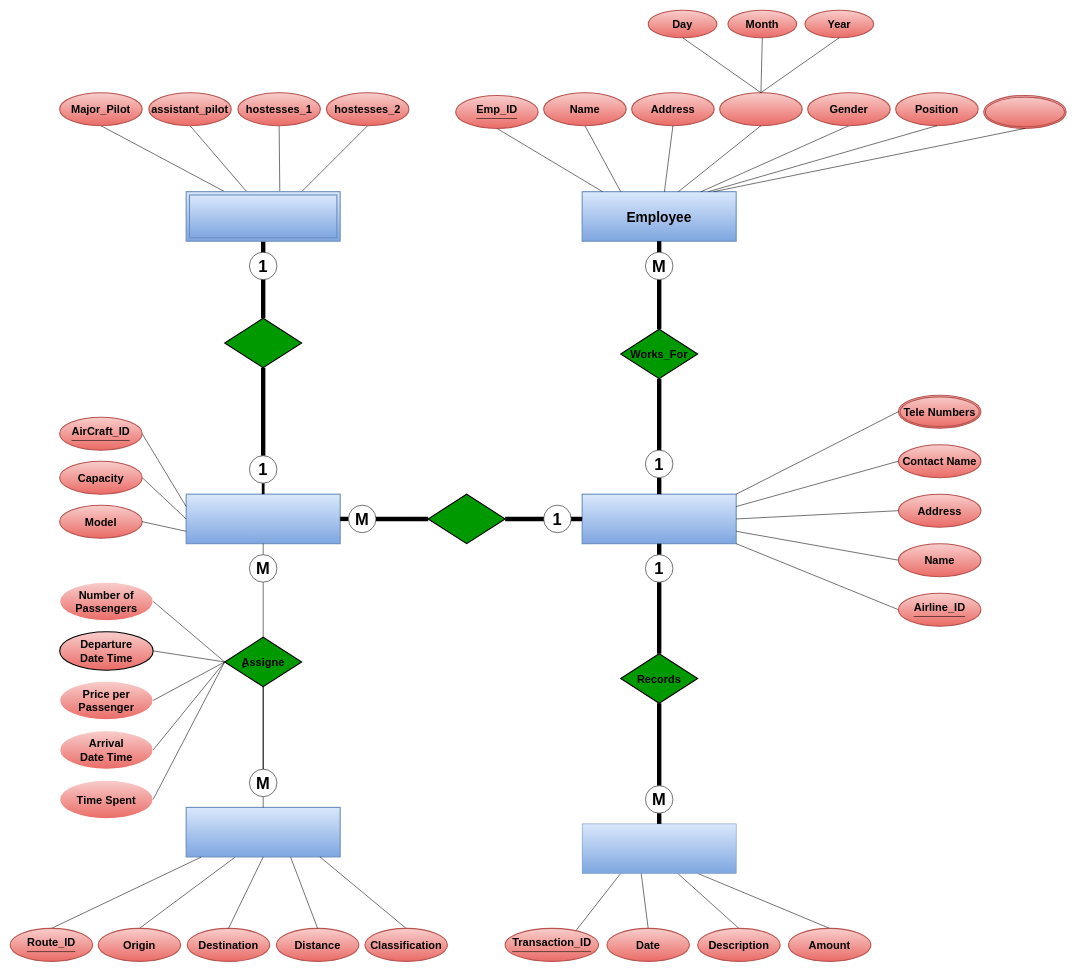
Some shapes in this 1076 by 971 pixel diagram are drawn without their labels. The shapes that lost their labels are listed below. From the top down, each one's centre as x and y in pixels, then its label:
At [760,109]: "Birth Day".
At [1024,112]: "Qualifications".
At [262,216]: "Crew".
At [263,342]: "has".
At [262,518]: "AirCraft".
At [466,518]: "Owns".
At [658,518]: "Airline".
At [262,832]: "Route".
At [659,848]: "Transaction".
